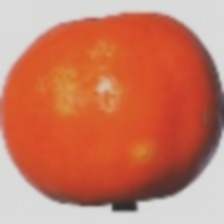tangerine: (1, 45, 197, 223)
